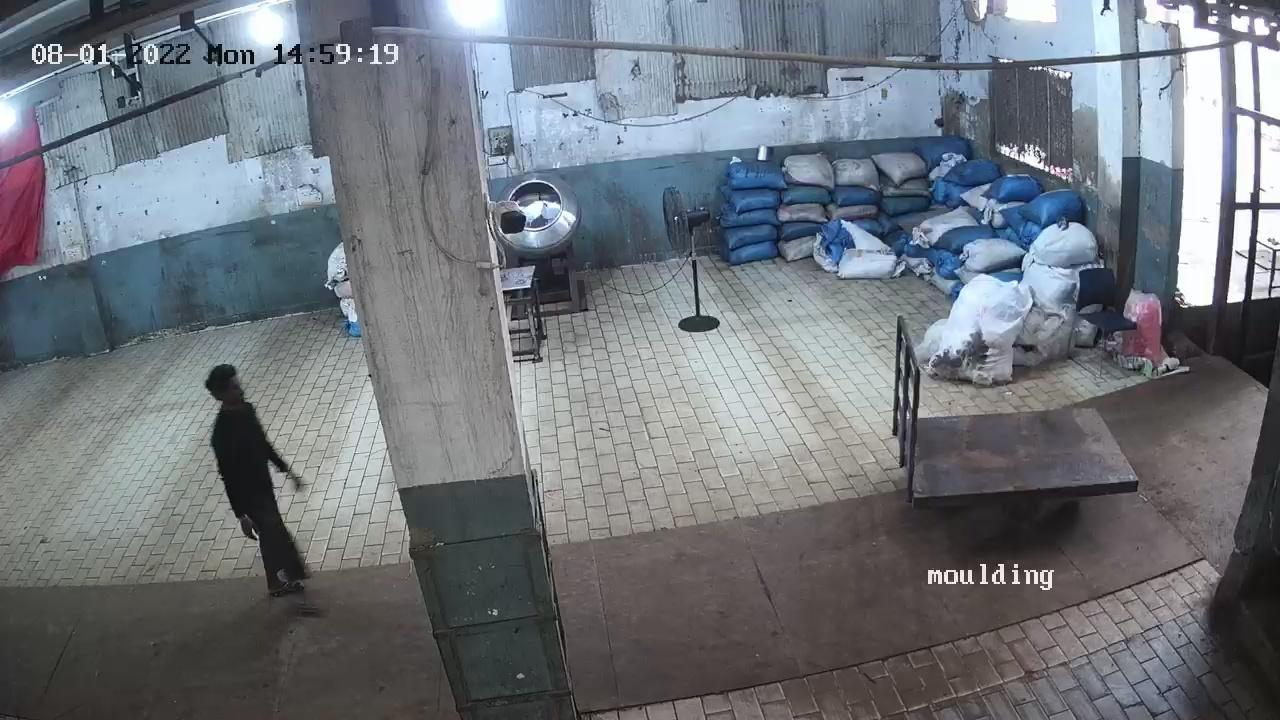person: (209, 365, 314, 605)
